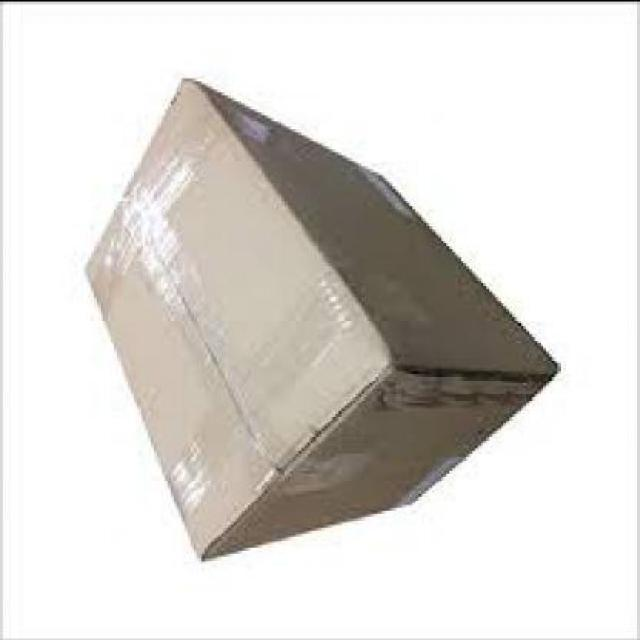box: (86, 77, 559, 557)
